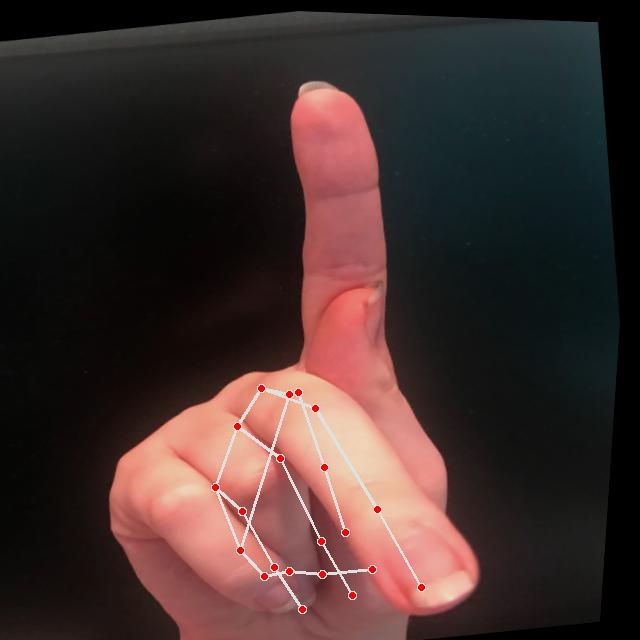P: (41, 48, 527, 639)
